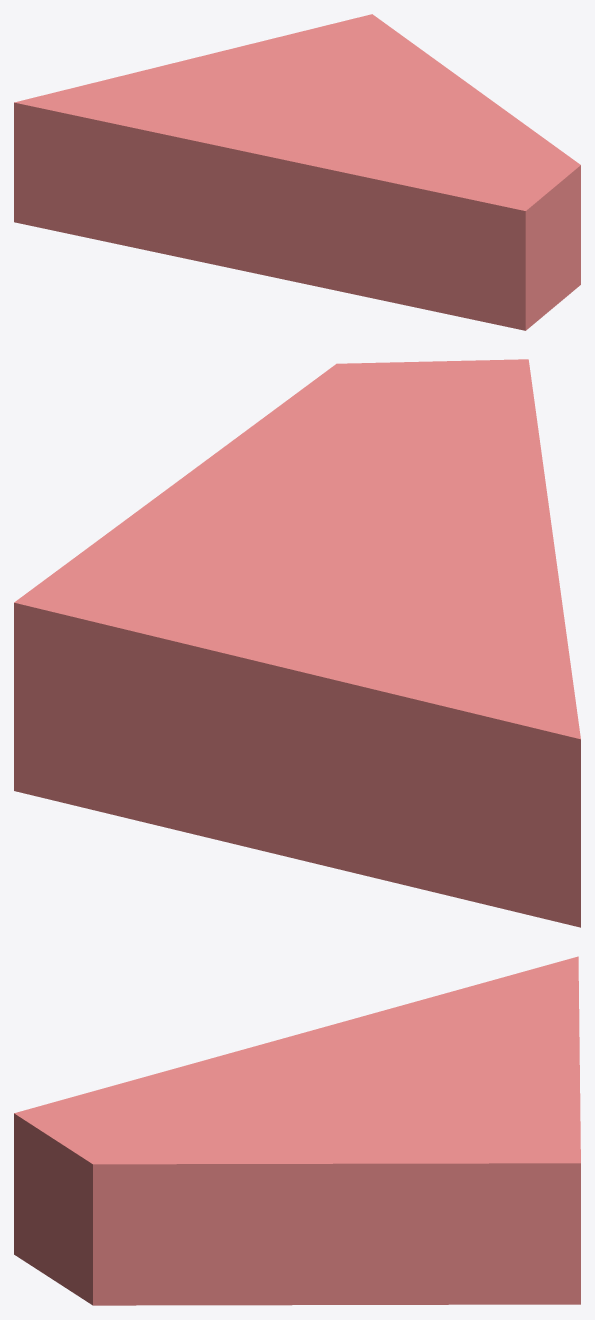
The model's file is pink.fbx.
3 renders of one model, top to bottom at view 1: azimuth 30°, elevation 25°; view 2: azimuth 150°, elevation 25°; view 3: azimuth 270°, elevation 25°, orthographic. The views are drawn at different scales.
Visible parts, largest first — view 1: Curve.003; view 2: Curve.003; view 3: Curve.003.
Boxes of the visible parts, x1,y1,x2,y2 form: Curve.003: (14,14,580,330); Curve.003: (14,359,580,927); Curve.003: (14,956,580,1305).
Size of the model in its own units: 9.47 by 3 by 10.91.
